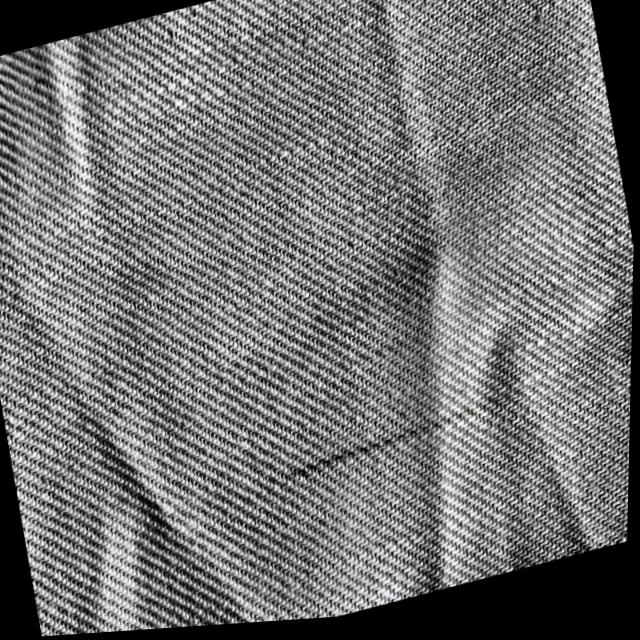Hole: (284, 398, 524, 491)
